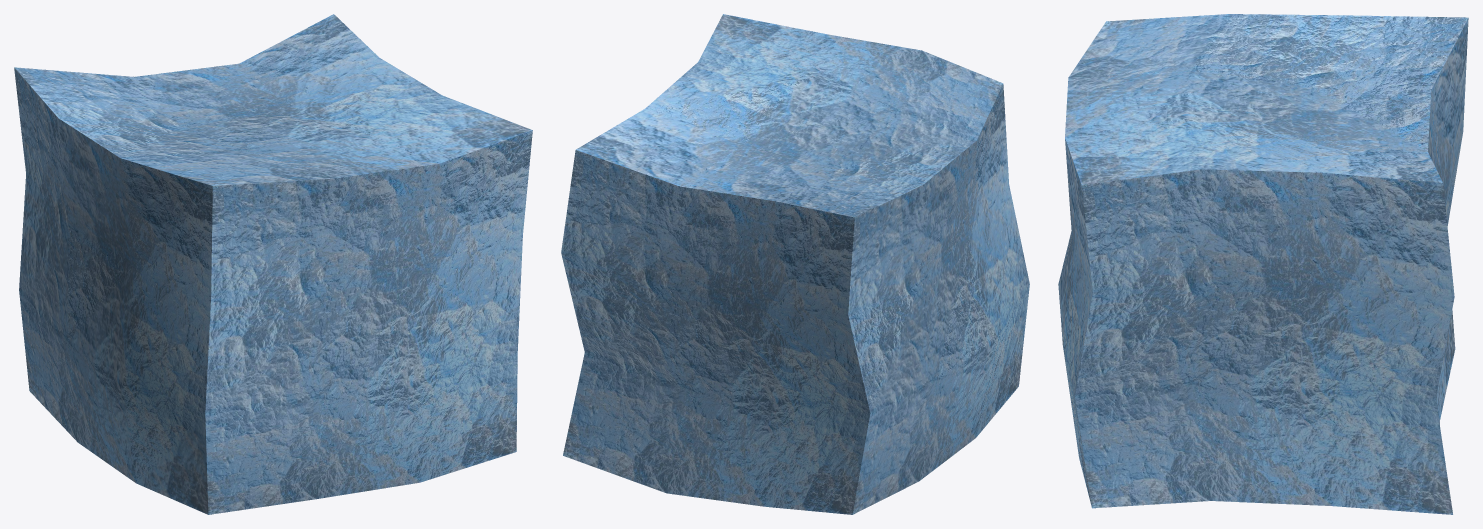
File: ice_00_coll.FBX
3 renders of one model, left to right at view 1: azimuth 30°, elevation 25°; view 2: azimuth 150°, elevation 25°; view 3: azimuth 270°, elevation 25°, orthographic. The views are drawn at different scales.
Visible parts, largest first — view 1: ice_00_coll; view 2: ice_00_coll; view 3: ice_00_coll.
Part boxes in pixels (<box>): ice_00_coll: <box>14,14,532,514</box>; ice_00_coll: <box>561,14,1029,514</box>; ice_00_coll: <box>1058,14,1468,514</box>.
Bounding box in the file's own units: 28.37 × 27.97 × 28.38.
